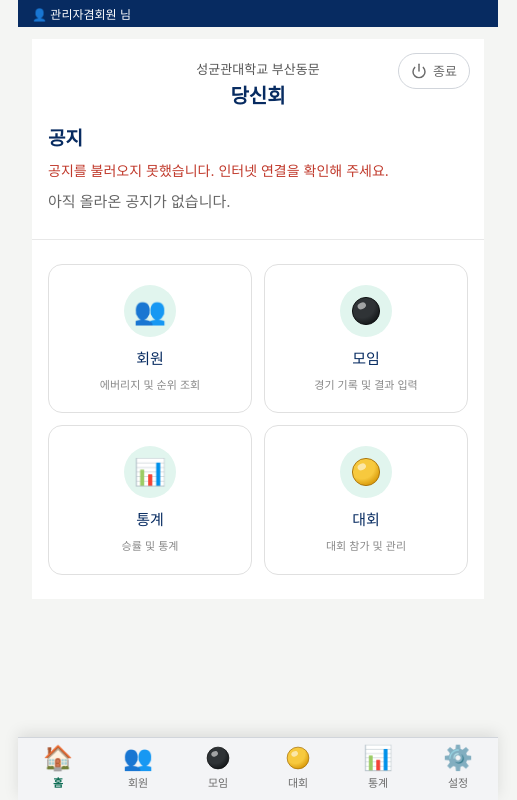
Scenario: 실제 재현 — 설정 탭에서 관리자 PIN 입력 직후 상태 전이 › 설정 탭이 관리자 게이트로 대체될 때 언마운트되어도 isAdmin(PIN) 상태는 리셋되지 않는다
Check: the text "👤 관리자겸회원 님" is shown, box [32,5,131,22]
Click the text "설정": (458, 782) [448,774,468,790]
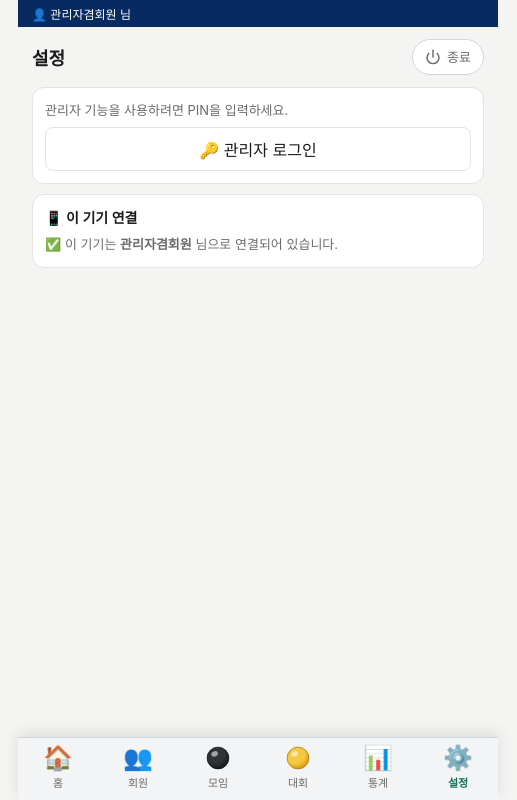
Check: the button "🔑 관리자 로그인" is shown
Click the button "🔑 관리자 로그인": (258, 149) [45,127,471,171]
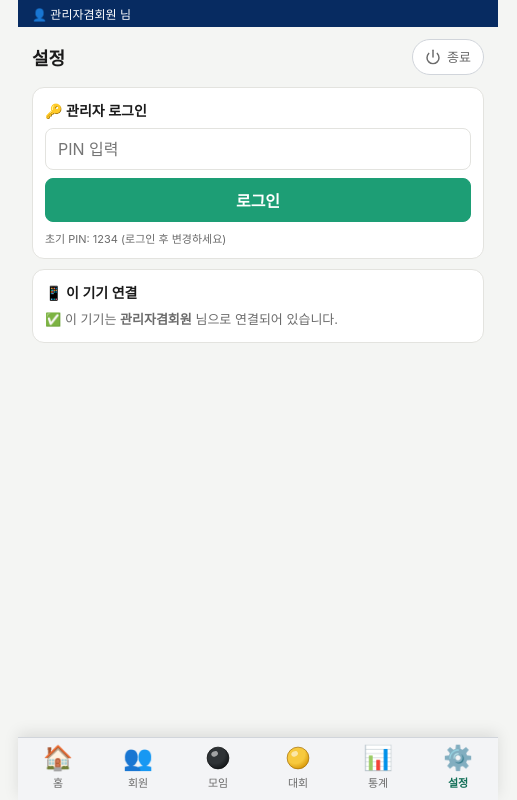
In the password field with placeholder "PIN 입력": (258, 149) [45,128,471,170], type "1234"
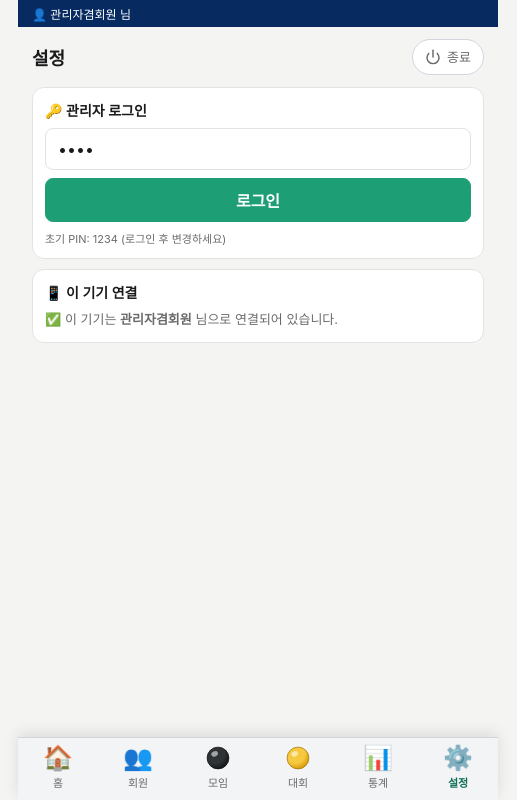
Click the button "로그인": (258, 200) [45,178,471,222]
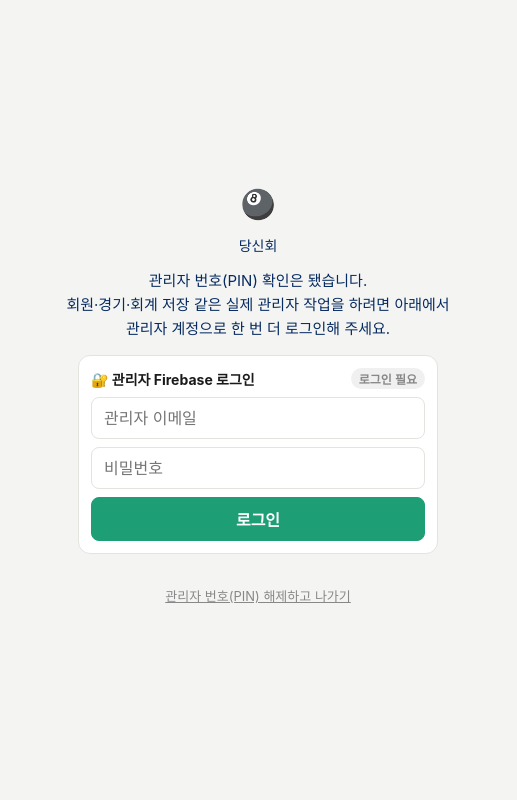
Check: the text "관리자 계정으로 한 번 더 로그인해 주세요" is shown, box [126,319,390,338]
